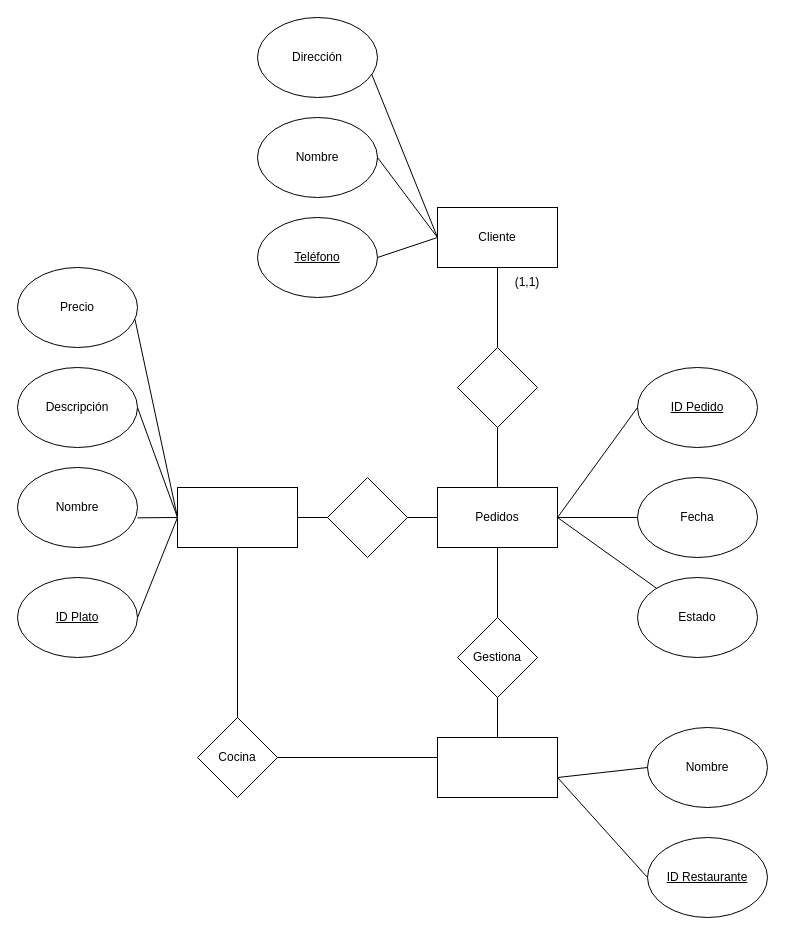
This 785x935 diagram has some shape labels left out. Each missing label, with the centre of its shape:
"Contiene" goes at point (367, 517).
"Hacer" goes at point (497, 387).
"Platos" goes at point (237, 517).
"Restaurante" goes at point (497, 767).
